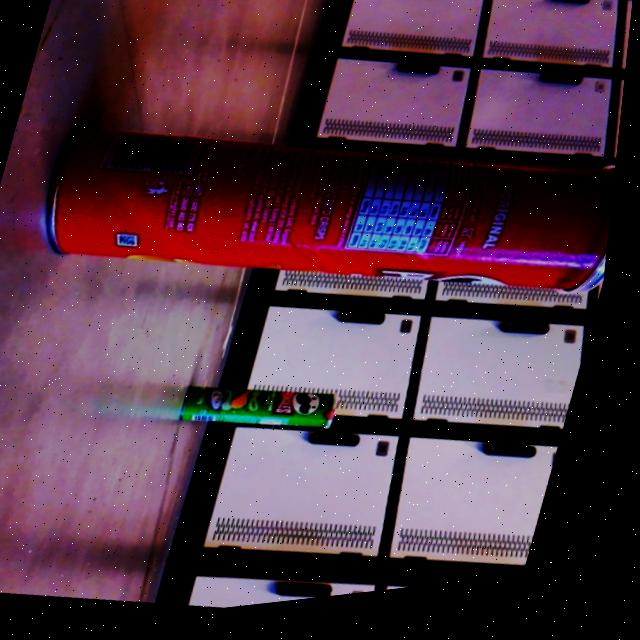greenpringles: (165, 358, 384, 480)
redpringles: (4, 52, 631, 389)
